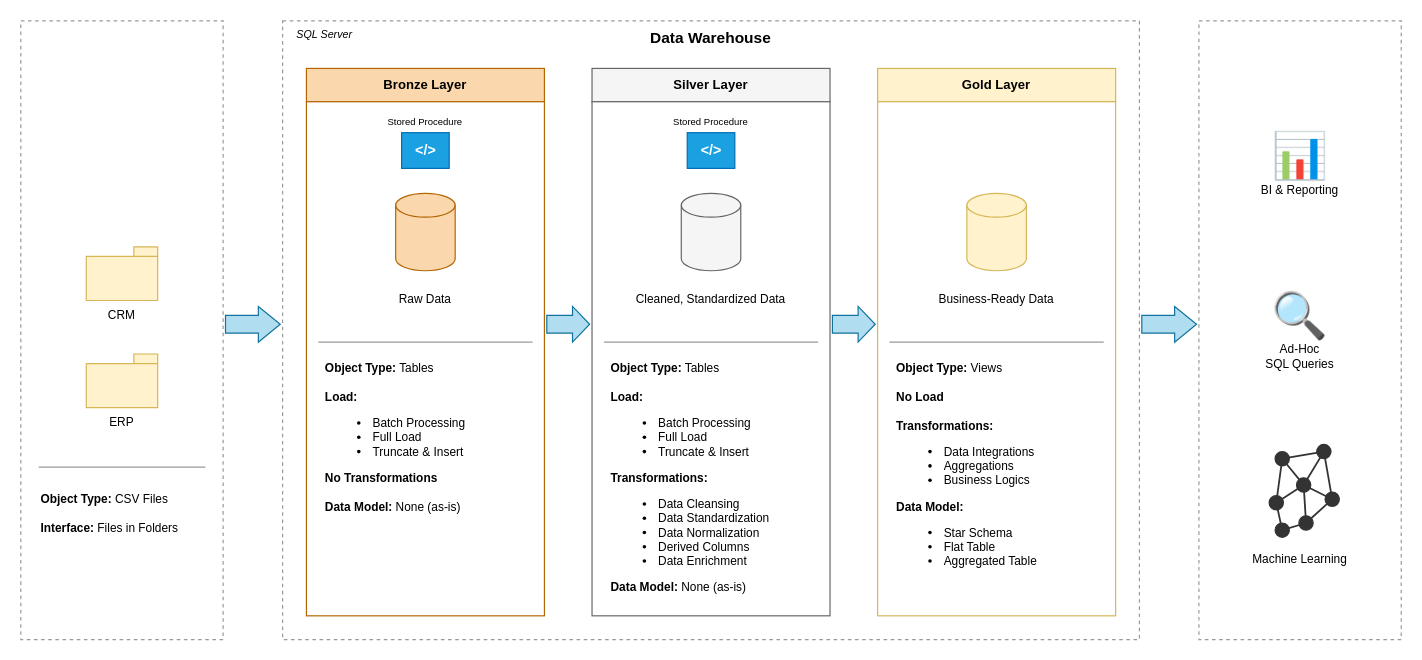
This 1422x660 diagram has some shape labels left out. Here are the shapes that lost their labels. From the top down, the box of each, then its label:
(20, 20, 223, 640): Sources
(1198, 20, 1401, 640): Consume
